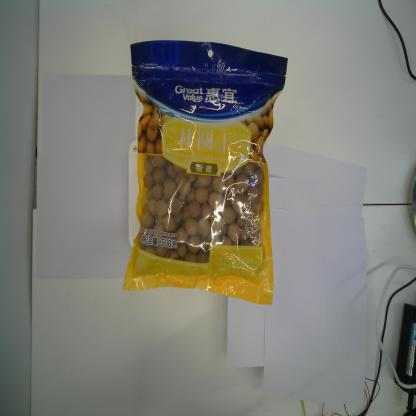Dried Food: (123, 39, 289, 305)
